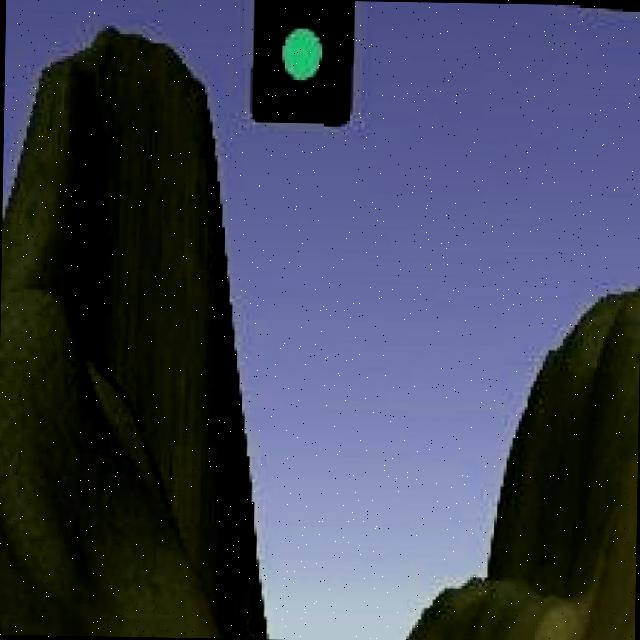Zielone swiatlo: (252, 2, 352, 124)
